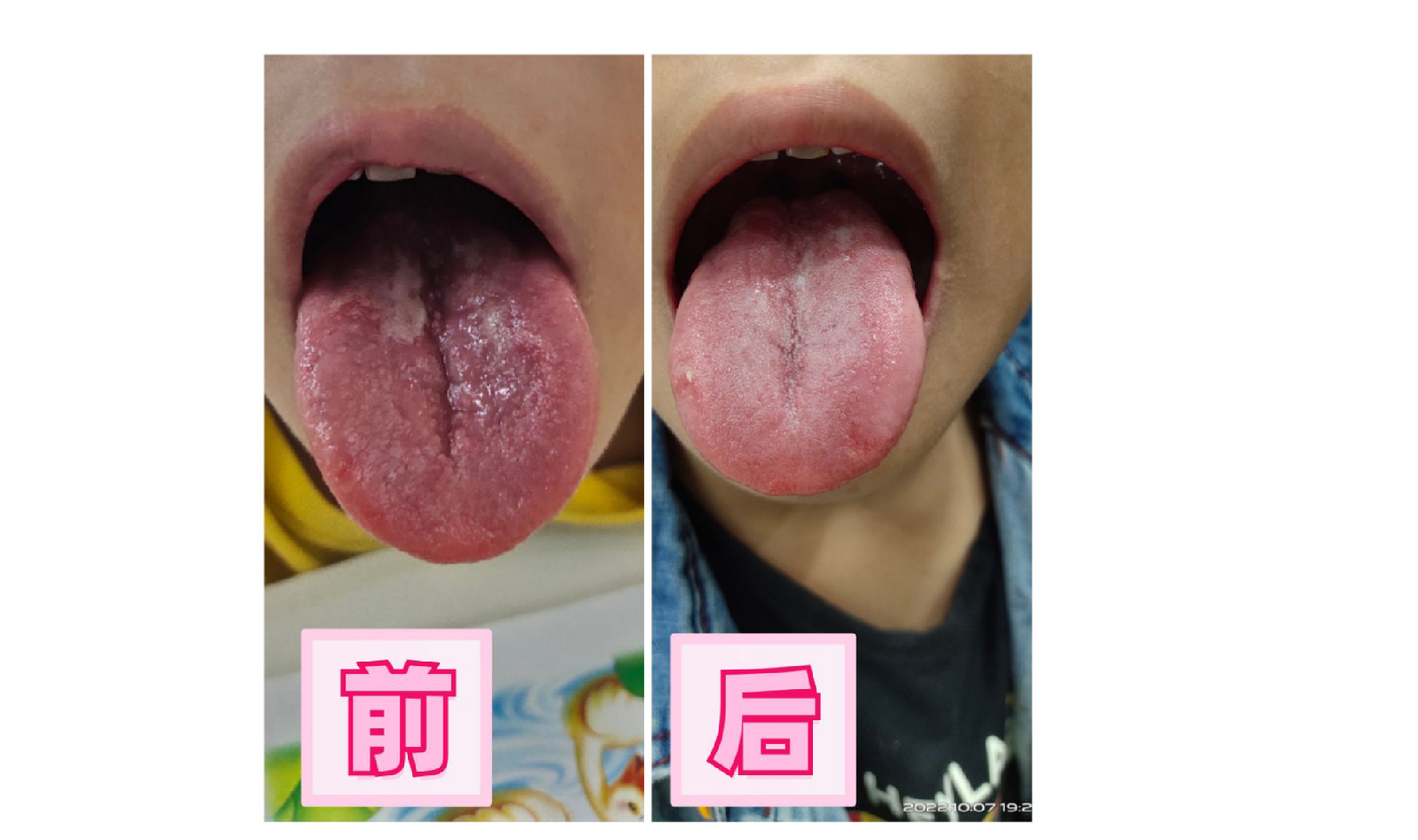baitaishe: (291, 250, 599, 561), (668, 210, 923, 493)
hongshe: (293, 251, 601, 563)
liewenshe: (410, 277, 462, 459), (772, 282, 801, 412)
